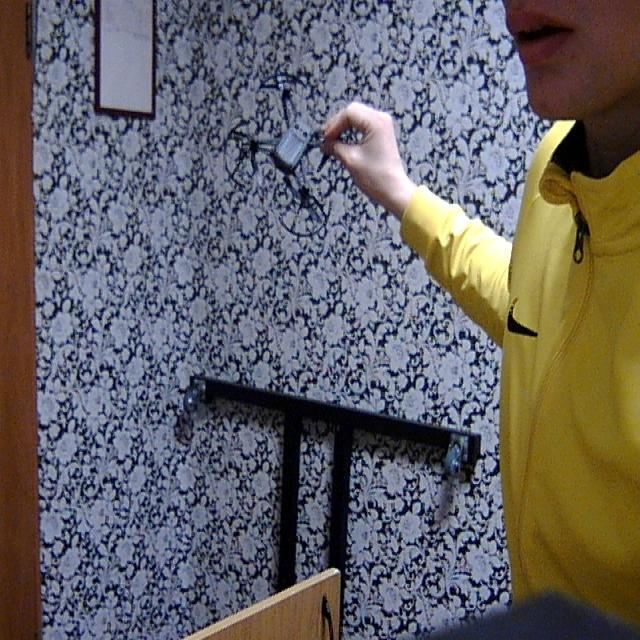drone: (224, 49, 388, 242)
